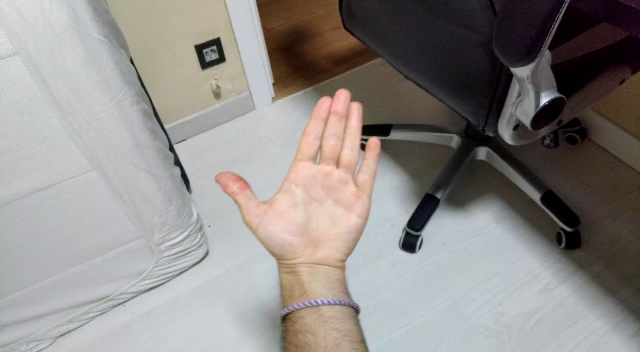Palm: (213, 86, 384, 273)
